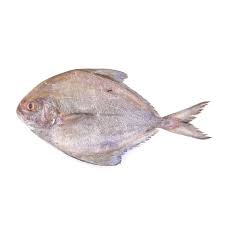Ikan Bawal: (9, 63, 215, 170)
